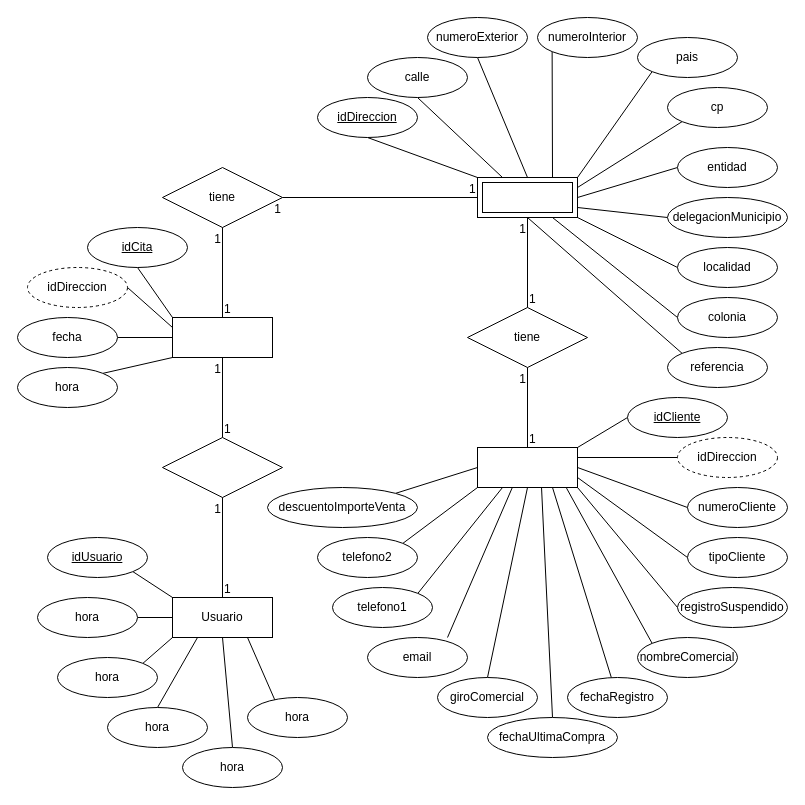
Image size: 805x805. Some labels were removed from this diagram. Here are the shapes that lost their labels. From the top down, the centre of each, then its label:
the point at 527,197: Direccion
the point at 222,337: Agenda
the point at 222,467: registra
the point at 527,467: Cliente
